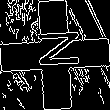N_W: (29, 34, 81, 76)
